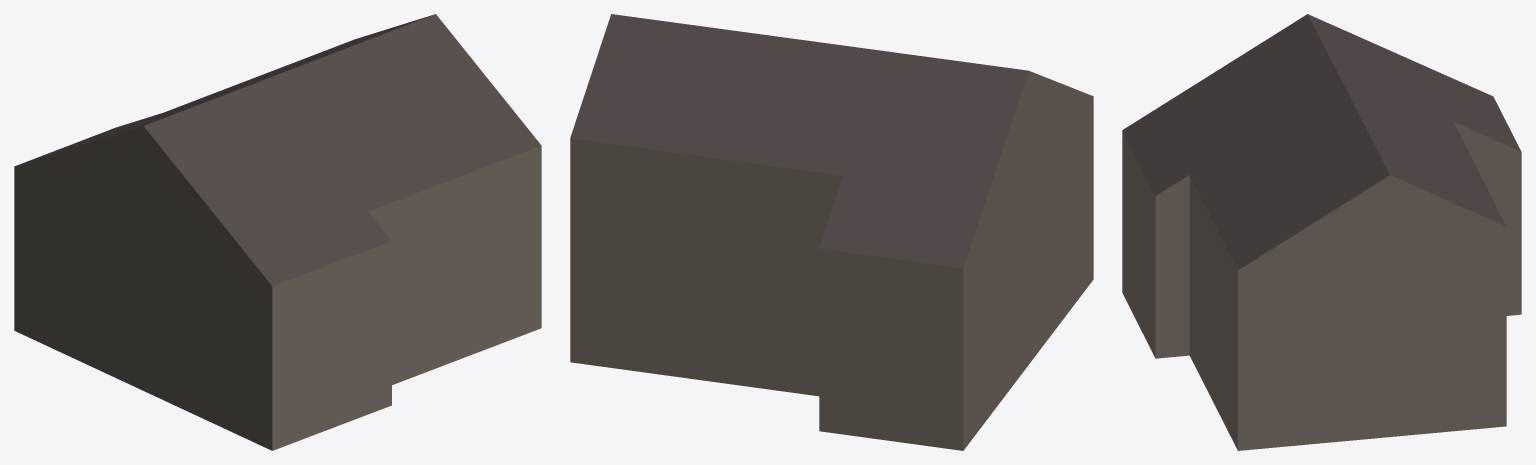
3 views of the same model, side by side, from view 1: azimuth 30°, elevation 25°; view 2: azimuth 150°, elevation 25°; view 3: azimuth 270°, elevation 25° (orthographic). The views are drawn at different scales.
Parts seen in each view (by area): view 1: HP-w1367350985; view 2: HP-w1367350985; view 3: HP-w1367350985.
Part boxes in pixels (left/top/right/bottom): HP-w1367350985: left=14, top=14, right=541, bottom=450; HP-w1367350985: left=570, top=14, right=1093, bottom=450; HP-w1367350985: left=1122, top=14, right=1521, bottom=450.
Bounding box in the file's own units: 15.21 × 9.67 × 13.36.
